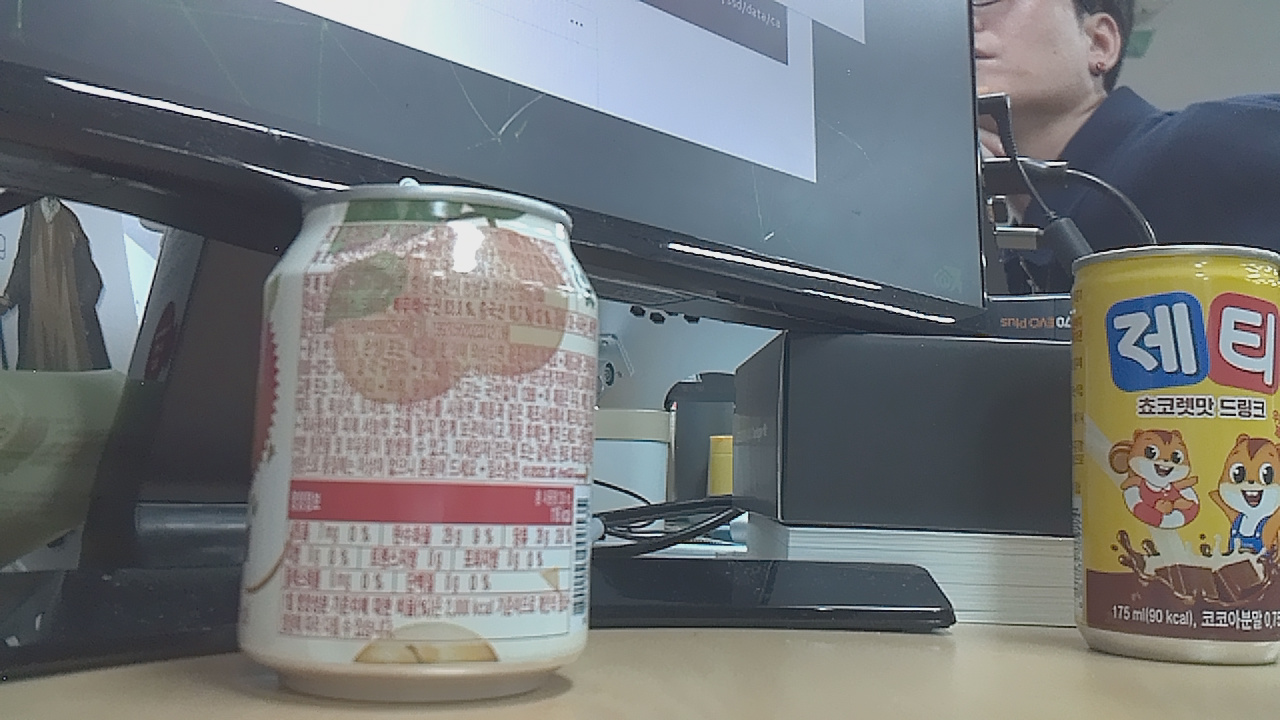IdH (pear juice): (247, 139, 618, 685)
jetty: (1052, 246, 1280, 678)
